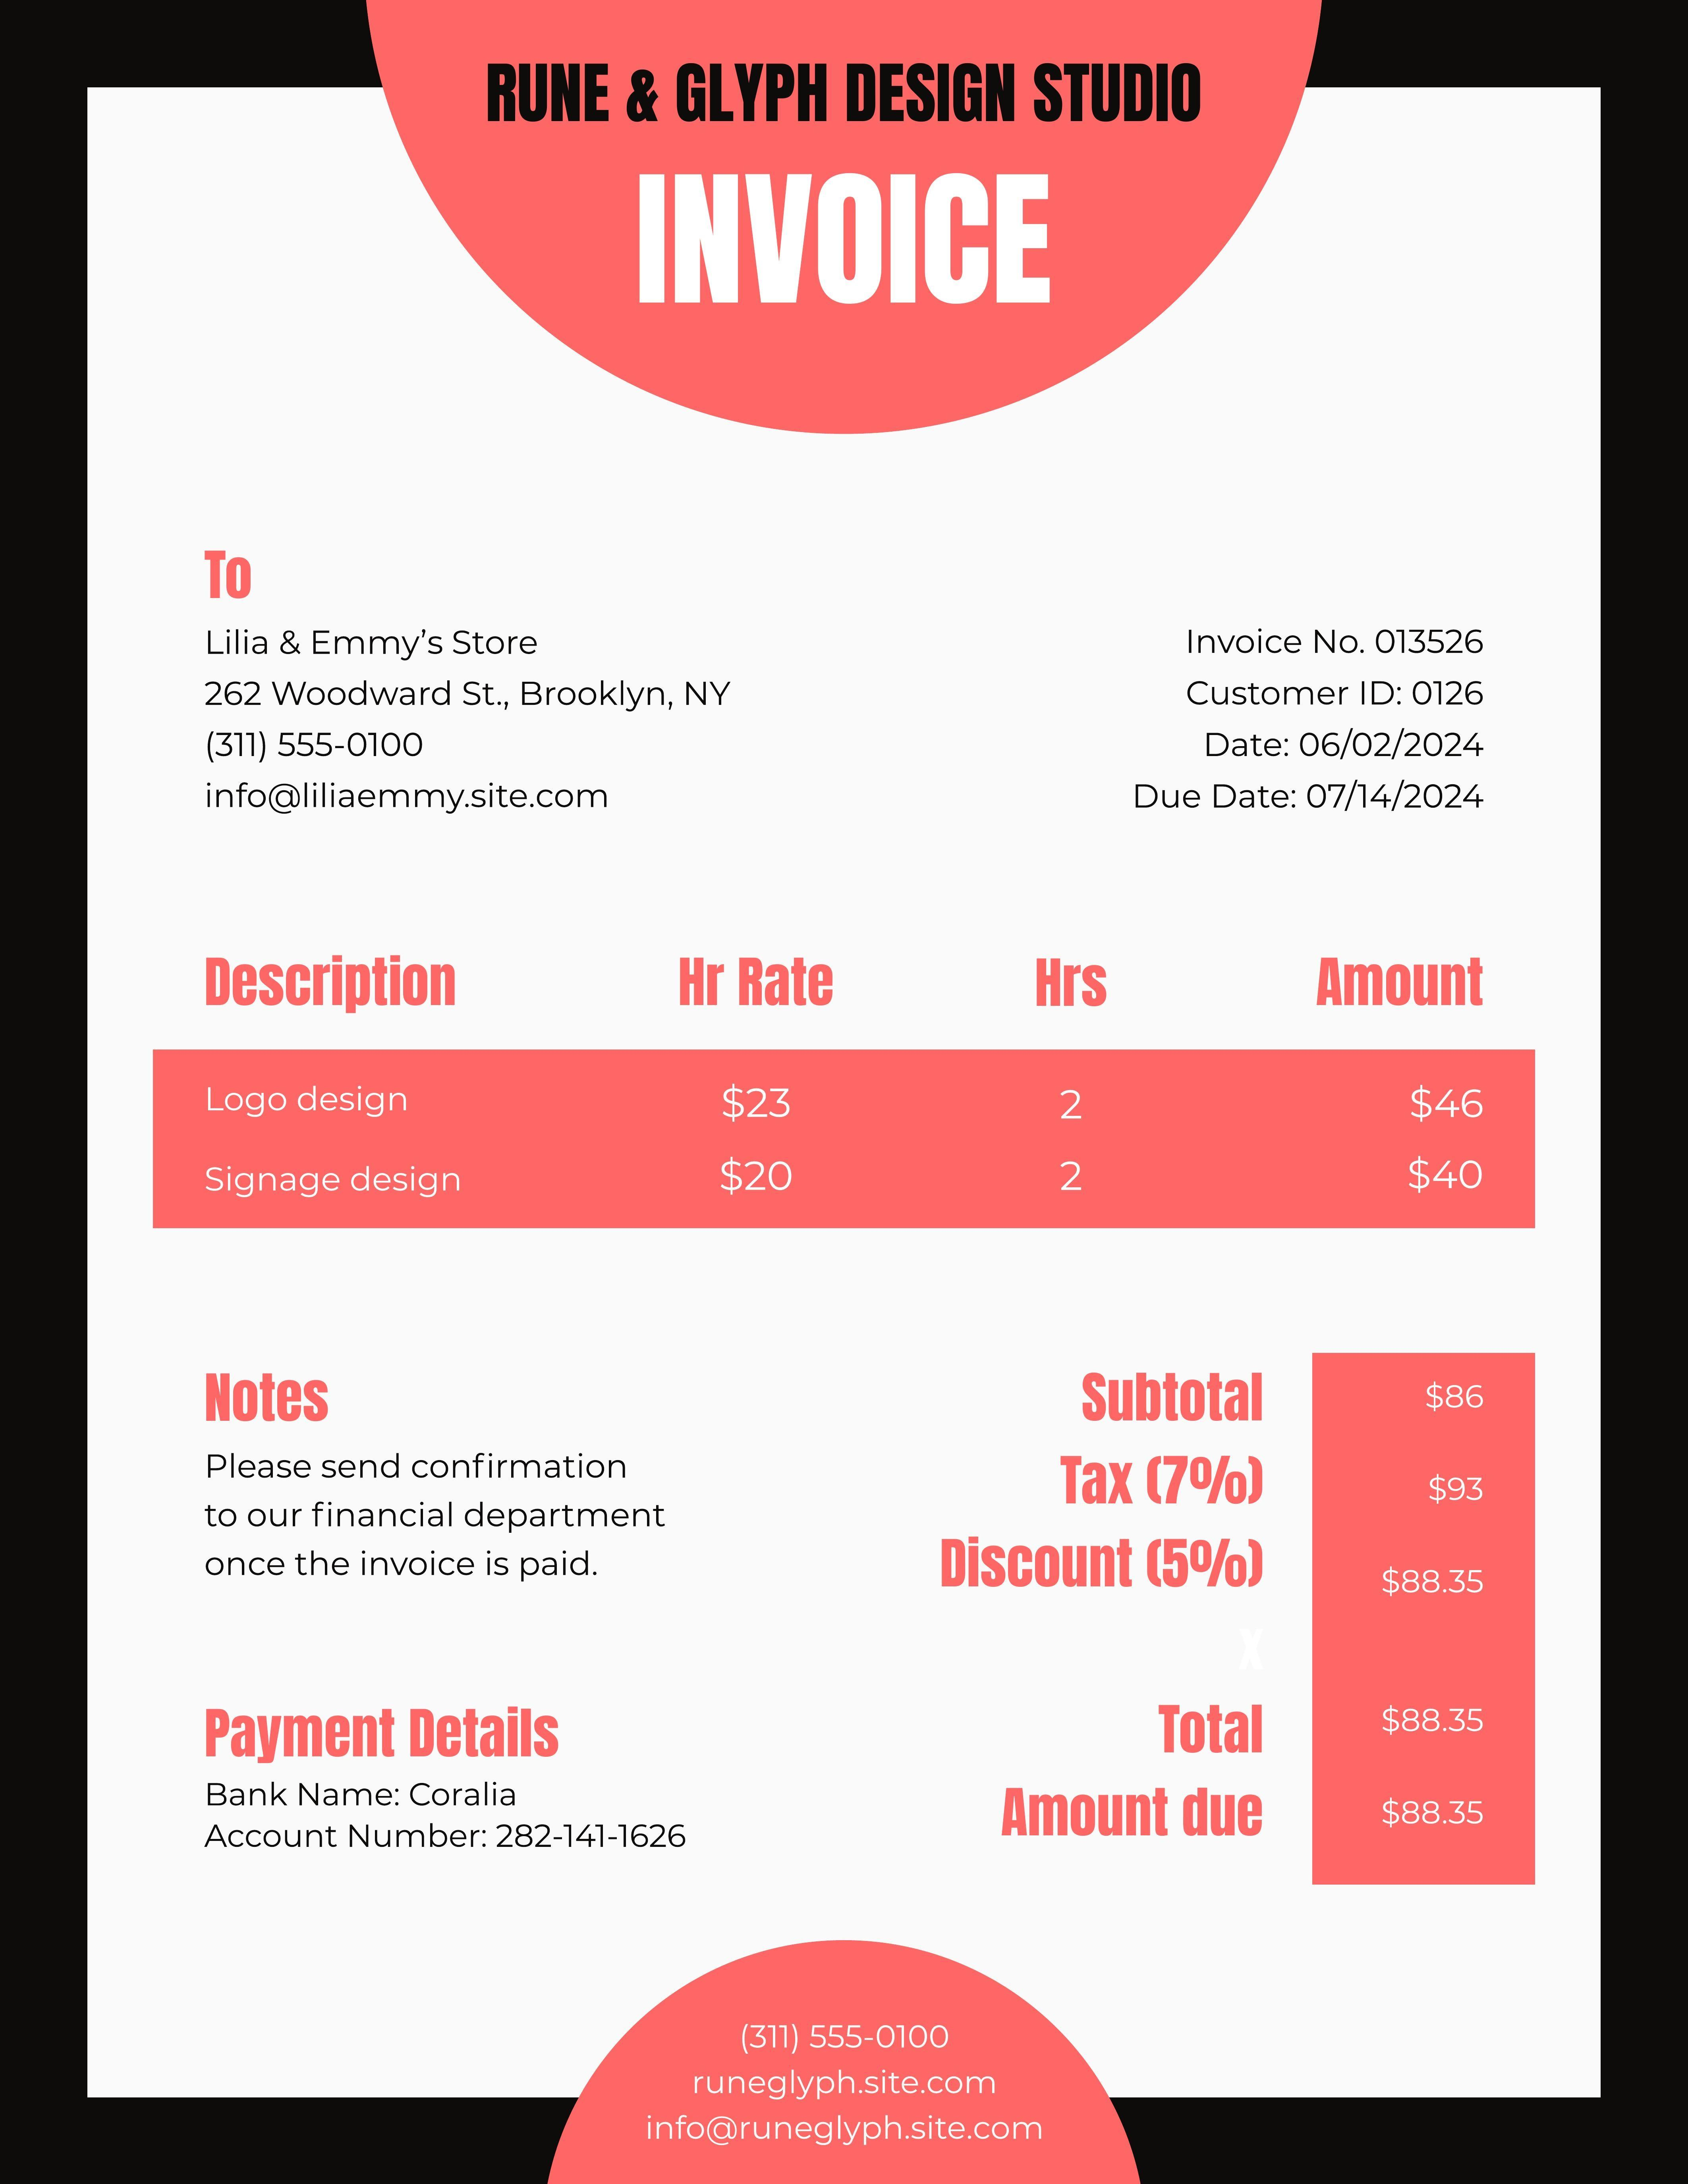ROI: (191, 934, 1495, 1200), (938, 1356, 1512, 1849), (188, 537, 739, 821), (1133, 608, 1491, 817), (200, 1704, 690, 1853), (461, 55, 1223, 128)
